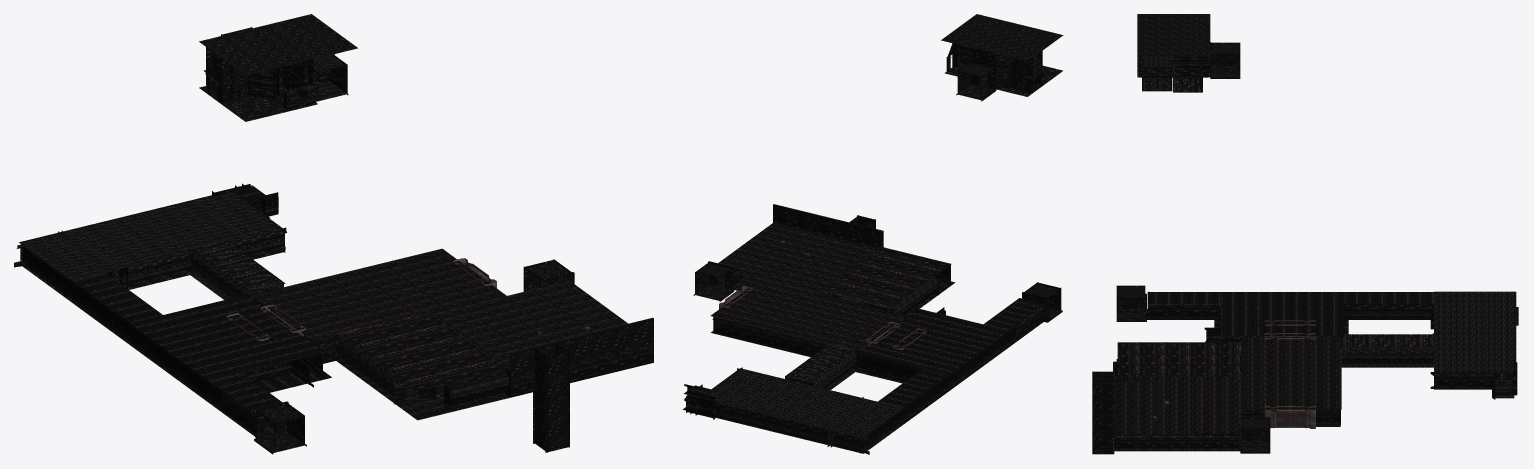
File: room3storage_opt.obj
3 renders of one model, left to right at view 1: azimuth 30°, elevation 25°; view 2: azimuth 150°, elevation 25°; view 3: azimuth 270°, elevation 25°, orthographic. The views are drawn at different scales.
Bounding box in the file's own units: 7168 × 7378 × 8640.
